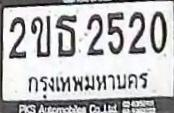0: (149, 10, 166, 53)
2: (128, 11, 146, 53), (86, 13, 104, 55), (7, 16, 25, 58)
5: (107, 11, 124, 54)
A02: (30, 15, 50, 57)
A24: (55, 14, 77, 56)
BKK: (23, 67, 151, 97)
